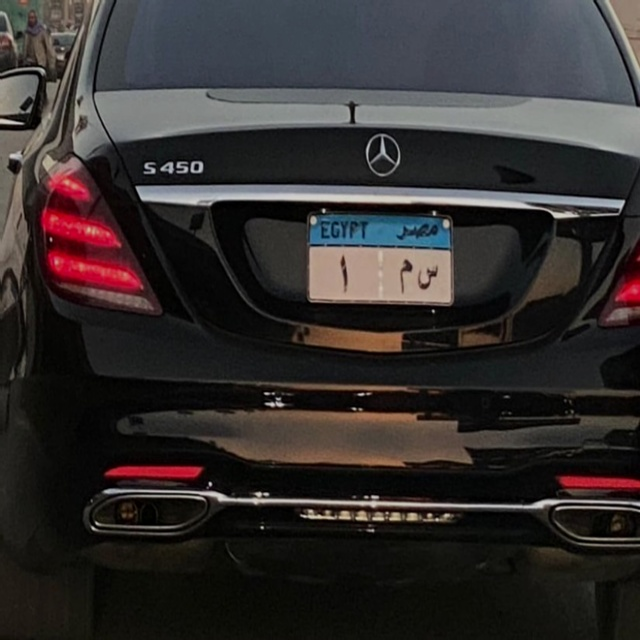License Plate: (304, 210, 456, 309)
